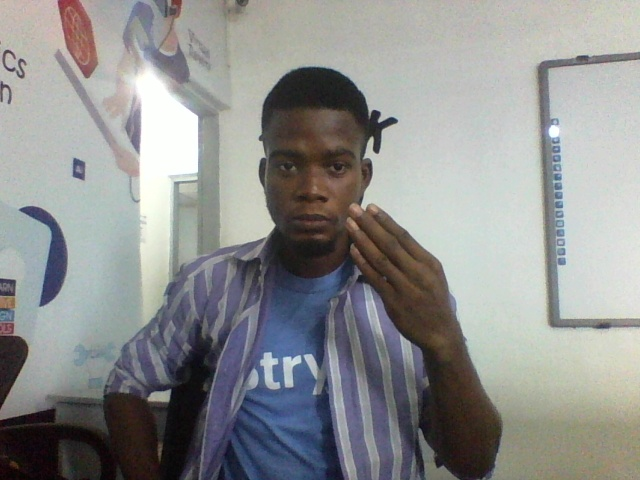thanks: (336, 195, 471, 357)
